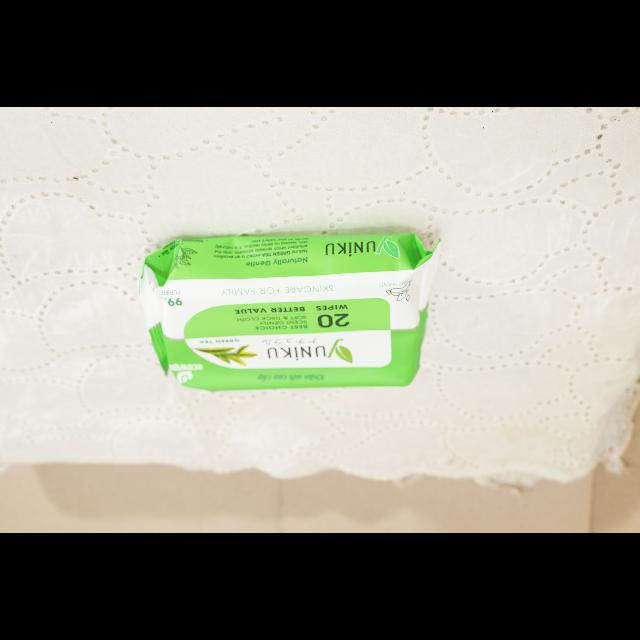khan_giay: (140, 233, 441, 390)
